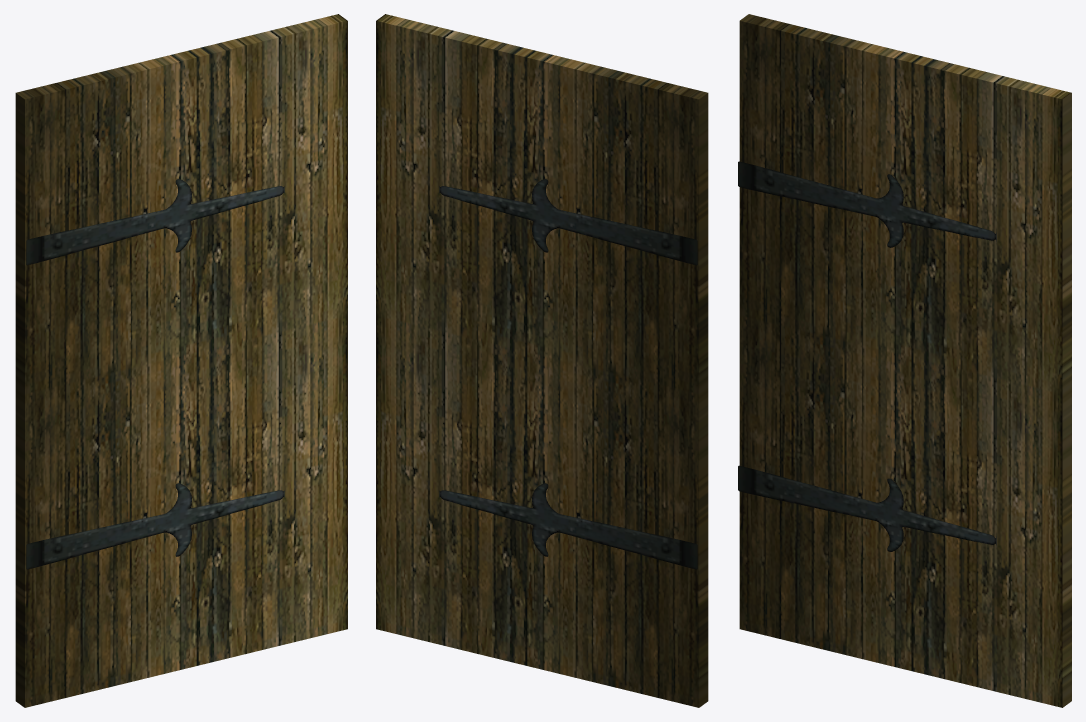
File: MISSION12_SMALL_DOUBLEDOOR_LEFT.glb
3 views of the same model, side by side, from view 1: azimuth 30°, elevation 25°; view 2: azimuth 150°, elevation 25°; view 3: azimuth 330°, elevation 25° (orthographic).
Visible parts, largest first — view 1: MISSION12_SMALL_DOUBLEDOOR_LEFT; view 2: MISSION12_SMALL_DOUBLEDOOR_LEFT; view 3: MISSION12_SMALL_DOUBLEDOOR_LEFT.
Boxes of the visible parts, x1,y1,x2,y2 form: MISSION12_SMALL_DOUBLEDOOR_LEFT: (15,14,347,707); MISSION12_SMALL_DOUBLEDOOR_LEFT: (376,14,708,707); MISSION12_SMALL_DOUBLEDOOR_LEFT: (738,14,1071,707).
Size of the model in its own units: 1.25 by 2.25 by 0.082.
Materials: 2 (2 with a texture image).
